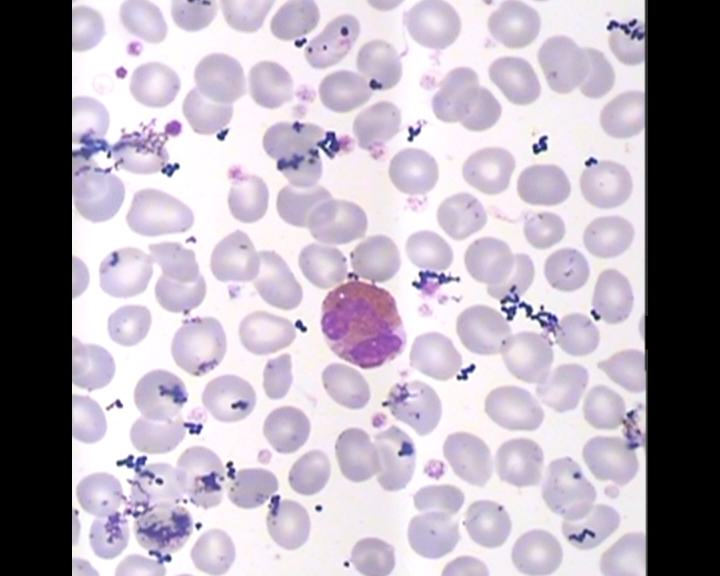eosi: (316, 278, 408, 371)
